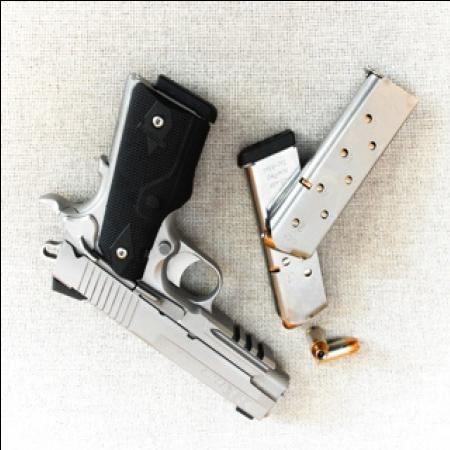Pistol: (37, 73, 296, 420)
